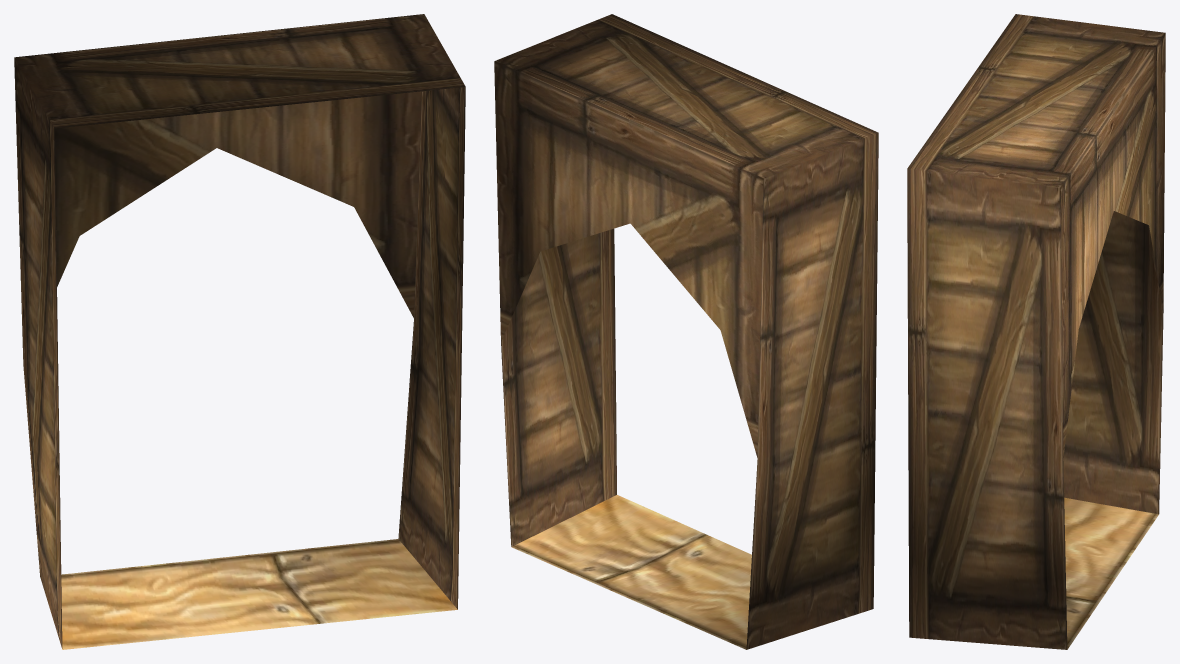
Rendered from stormwind_099.fbx.
3 renders of one model, left to right at view 1: azimuth 30°, elevation 25°; view 2: azimuth 150°, elevation 25°; view 3: azimuth 270°, elevation 25°, orthographic. The views are drawn at different scales.
Parts seen in each view (by area): view 1: stormwind_099_56, stormwind_099_53; view 2: stormwind_099_56, stormwind_099_53; view 3: stormwind_099_56, stormwind_099_53.
Boxes of the visible parts, x1,y1,x2,y2 form: stormwind_099_56: (14,14,465,648); stormwind_099_53: (61,539,457,649); stormwind_099_56: (494,14,878,649); stormwind_099_53: (511,495,751,649); stormwind_099_56: (907,14,1165,649); stormwind_099_53: (1064,497,1158,649).
Bounding box in the file's own units: 3.61 × 4.56 × 2.27.
